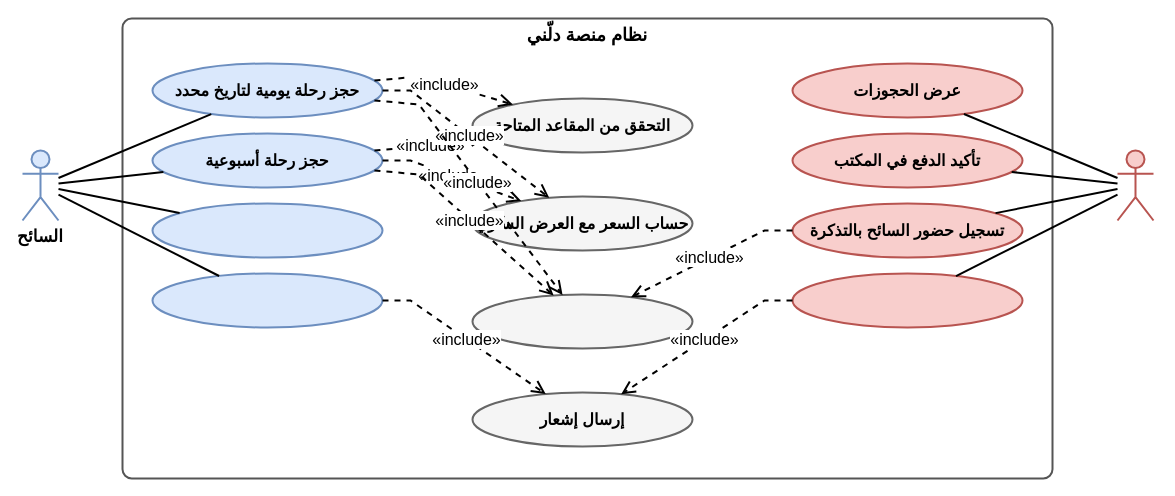
Image size: 1175x496. Some labels were removed from this diagram. Here are the shapes that lost their labels. From the top down, the centre of each, then its label:
At (x=1135, y=185): "مدير النظام".
At (x=267, y=230): "عرض حجوزاتي والتذكرة".
At (x=267, y=300): "إلغاء حجز".
At (x=907, y=300): "إلغاء حجز من الإدارة".
At (x=582, y=321): "إصدار رمز التذكرة".
